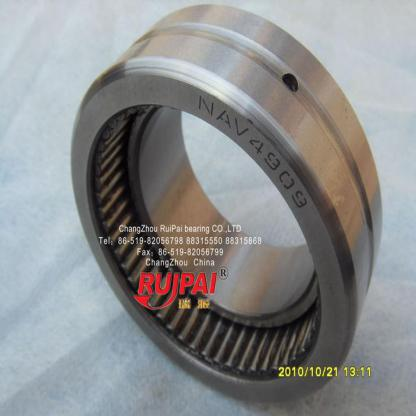FOD: (66, 2, 386, 404)
